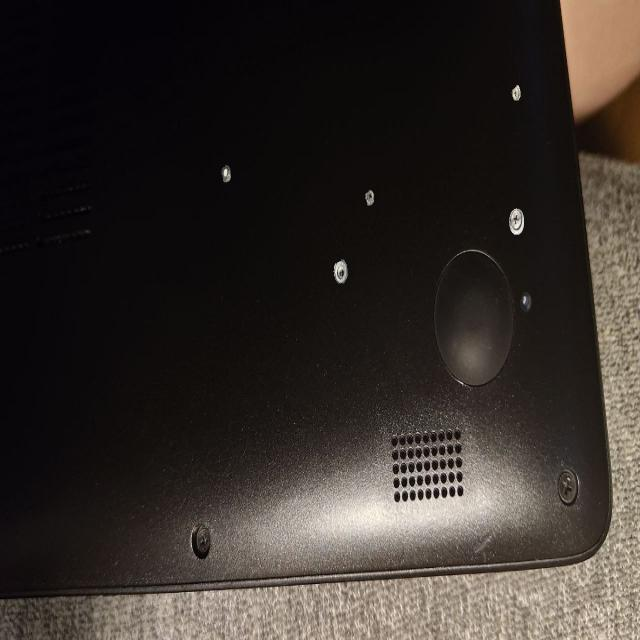lock: (509, 208, 524, 235), (365, 189, 374, 205), (512, 84, 520, 100)
missing_screw: (334, 259, 348, 284), (520, 292, 531, 311), (221, 164, 231, 182)
